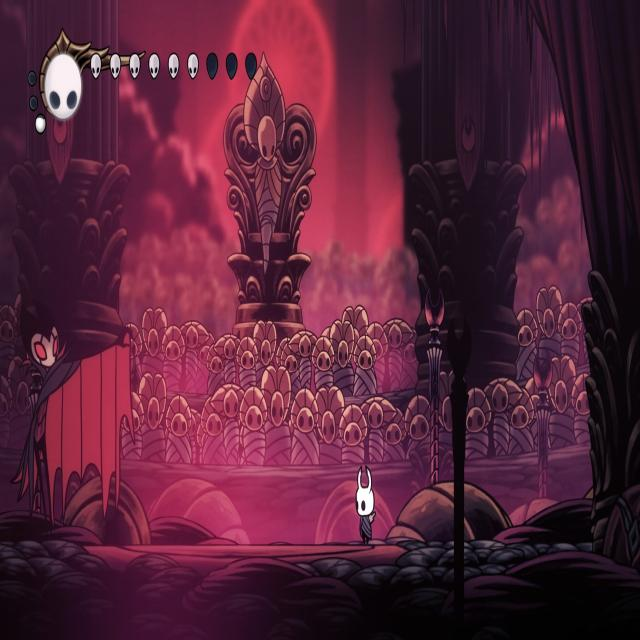Open Cloak: (12, 288, 139, 549)
Player: (353, 460, 379, 548)
